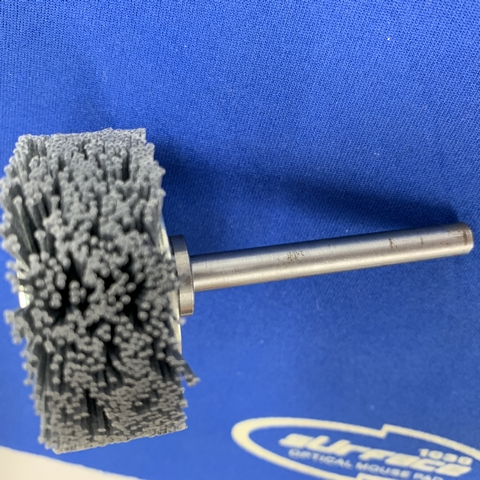Wheel Brush: (3, 127, 478, 450), (17, 137, 443, 430), (1, 116, 201, 466)
